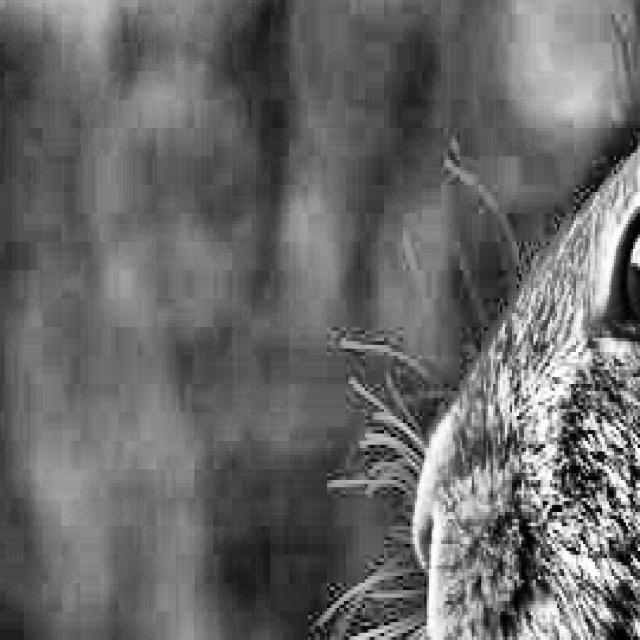rabbit: (175, 0, 640, 640)
